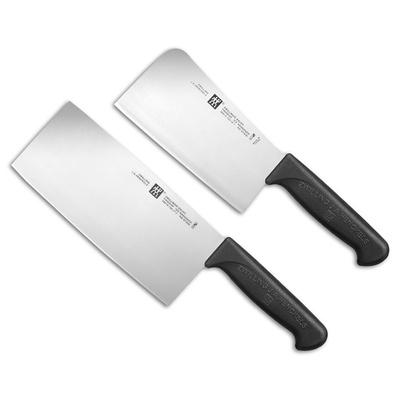knife: (1, 24, 391, 365)
